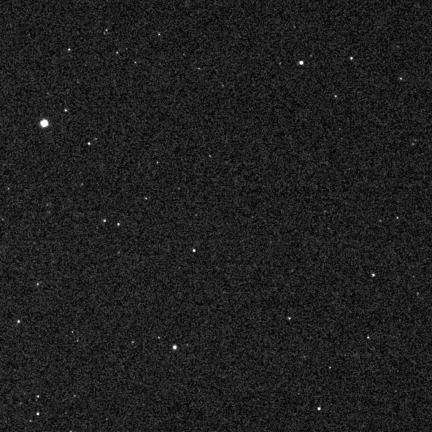blob: (41, 119, 48, 127), (298, 61, 304, 65), (173, 345, 177, 349), (117, 223, 121, 227), (193, 249, 196, 253), (318, 408, 322, 411), (17, 320, 20, 323), (372, 274, 375, 277)
